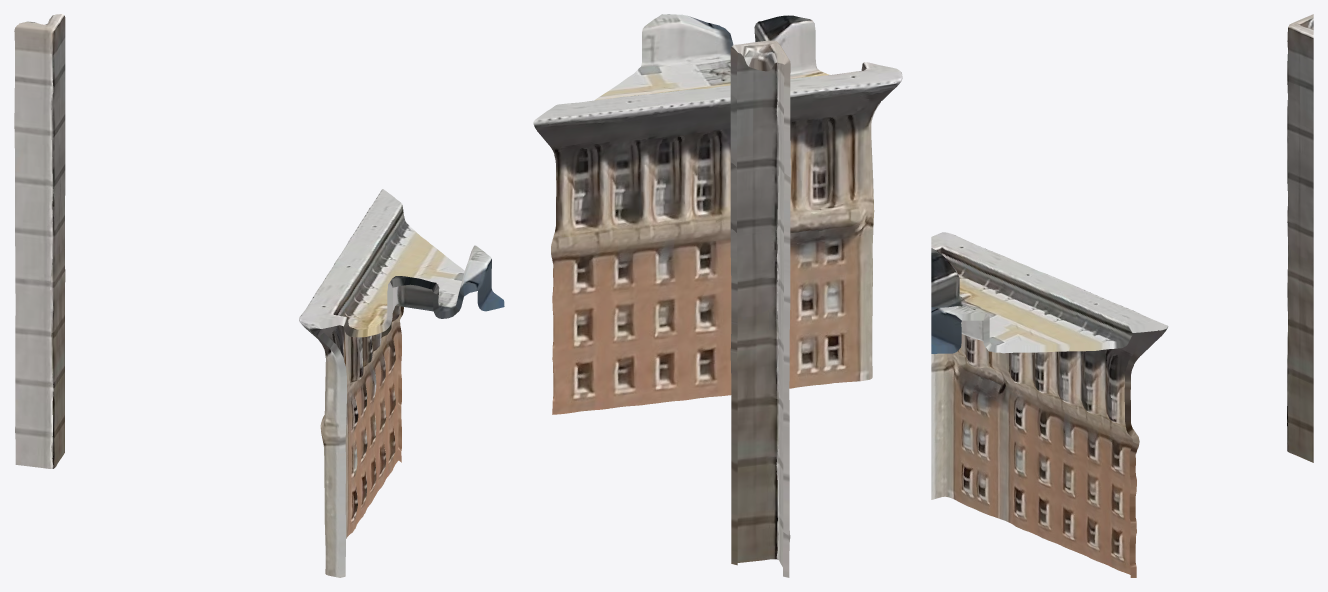
Rendered from z20-167786-405228-h1-yup-uvflip-v3-world.glb.
3 renders of one model, left to right at view 1: azimuth 30°, elevation 25°; view 2: azimuth 150°, elevation 25°; view 3: azimuth 270°, elevation 25°, orthographic. The views are drawn at different scales.
Size of the model in its own units: 26.04 by 37.4 by 30.32.
Materials: 1 (1 with a texture image).
